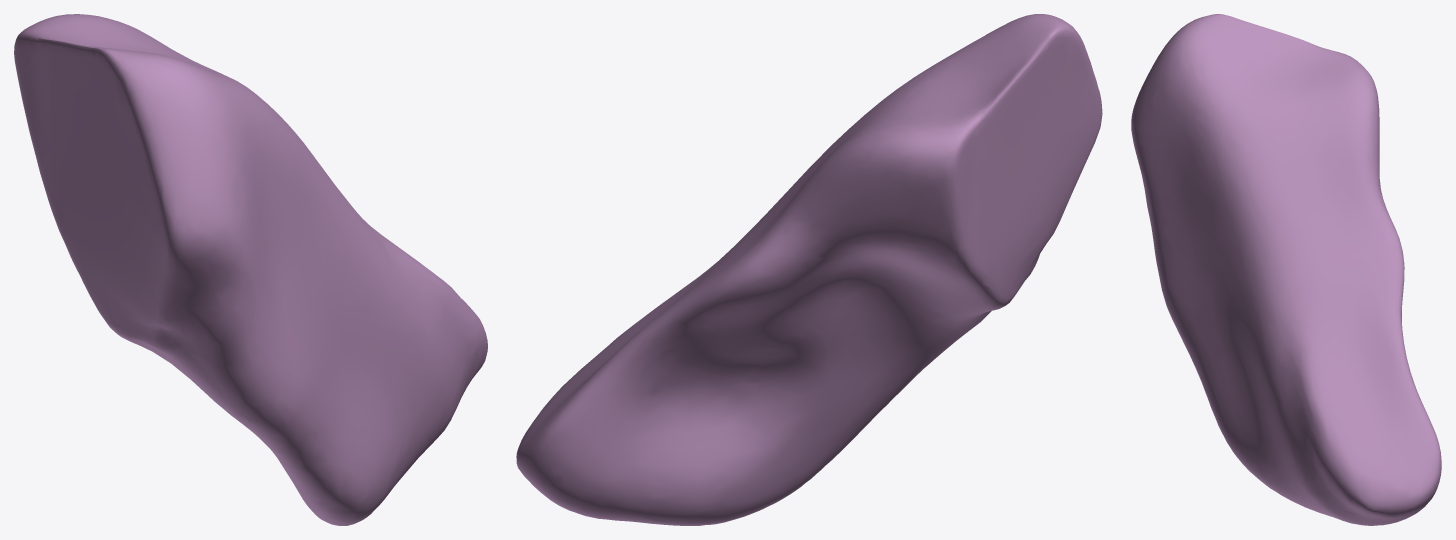
The picture shows the model from 3 angles, left to right: view 1: azimuth 30°, elevation 25°; view 2: azimuth 150°, elevation 25°; view 3: azimuth 270°, elevation 25°; orthographic projection. The views are drawn at different scales.
Visible parts, largest first — view 1: 左侧前方形小叶; view 2: 左侧前方形小叶; view 3: 左侧前方形小叶.
Boxes of the visible parts, x1=… form: 左侧前方形小叶: x1=14, y1=14, x2=487, y2=525; 左侧前方形小叶: x1=516, y1=14, x2=1102, y2=525; 左侧前方形小叶: x1=1131, y1=14, x2=1441, y2=525.
Size of the model in its own units: 0.0449 by 0.0513 by 0.0369.
